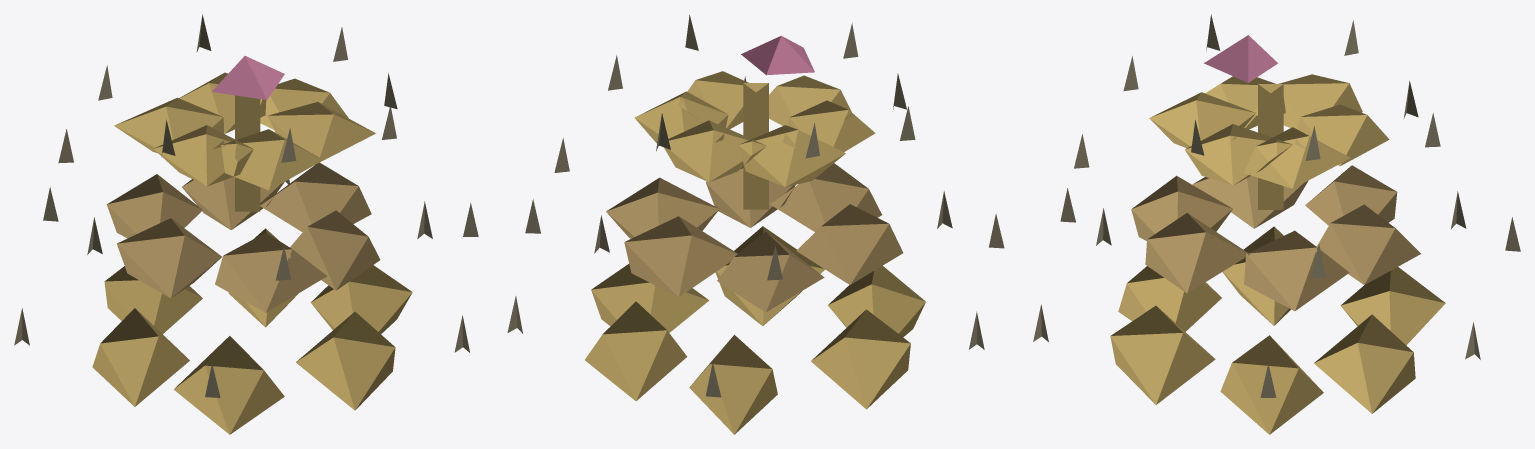
Rendered from shrub.trop.desert_succulent__autumn.glb.
The picture shows the model from 3 angles, left to right: view 1: azimuth 30°, elevation 25°; view 2: azimuth 150°, elevation 25°; view 3: azimuth 270°, elevation 25°; orthographic projection.
Visible parts, largest first — view 1: shrub.trop.desert_succulent__autumn; view 2: shrub.trop.desert_succulent__autumn; view 3: shrub.trop.desert_succulent__autumn.
Part boxes in pixels (<box>): shrub.trop.desert_succulent__autumn: <box>14,14,478,434</box>; shrub.trop.desert_succulent__autumn: <box>507,15,1004,434</box>; shrub.trop.desert_succulent__autumn: <box>1033,14,1520,434</box>.
Bounding box in the file's own units: 1.8 × 1.26 × 1.64.
